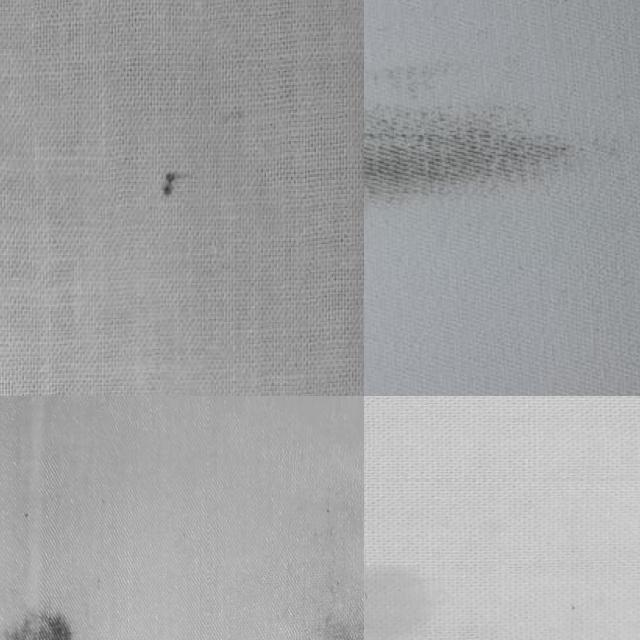Hole: (364, 14, 617, 296), (86, 100, 270, 278), (0, 398, 125, 640)
